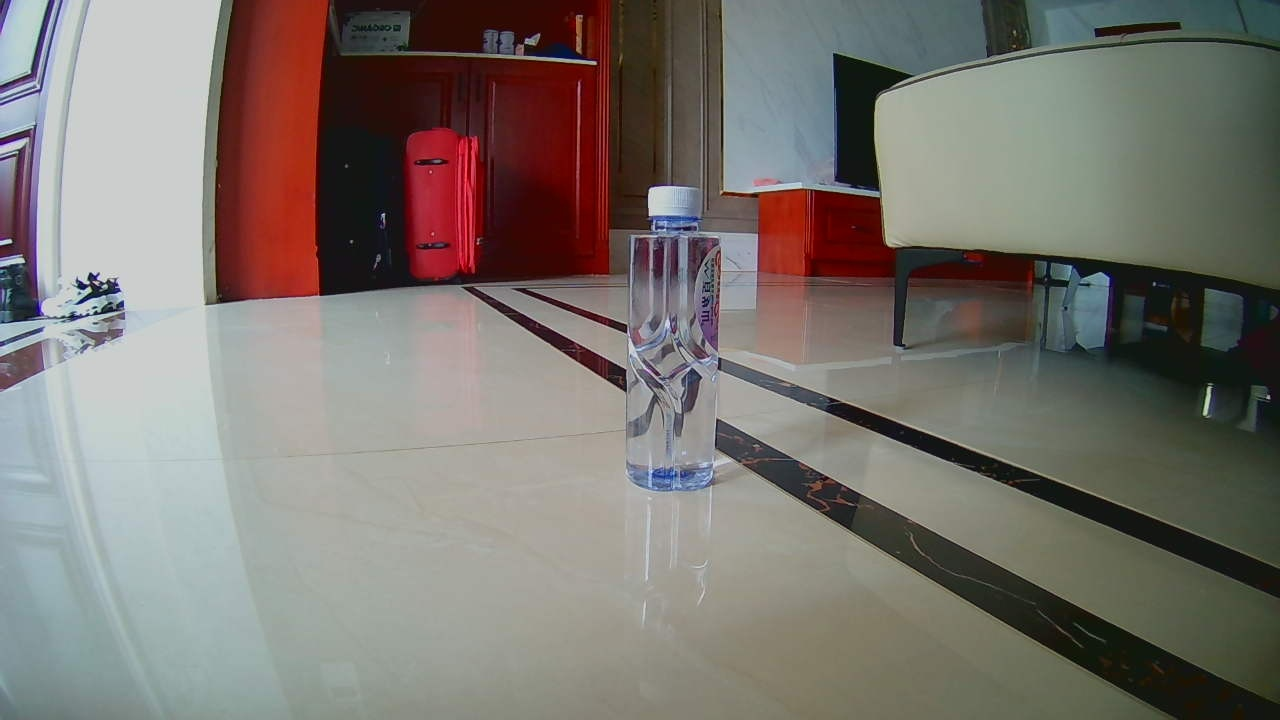water: (631, 187, 718, 490)
